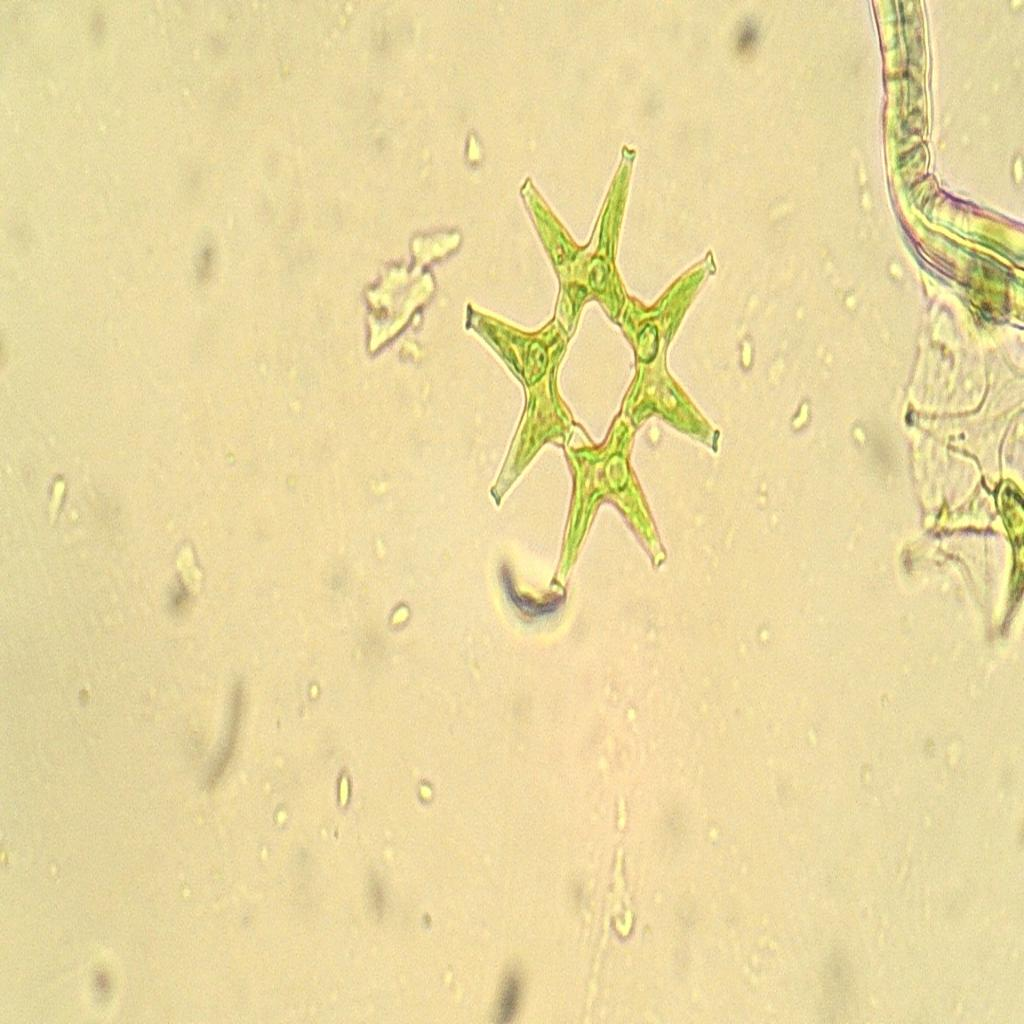Pediastrum_CO: (451, 127, 736, 617)
